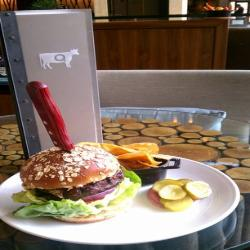burger: (25, 140, 138, 226)
